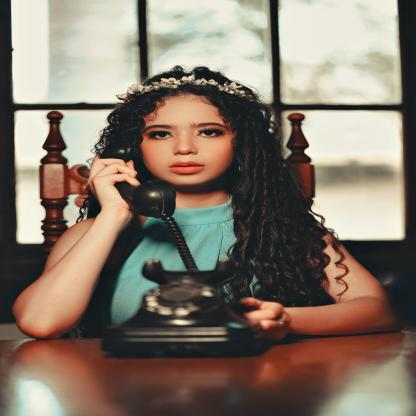Eye: (194, 127, 227, 139), (144, 130, 177, 142)
Mouth: (167, 160, 209, 174)
Nose: (173, 135, 199, 156)
